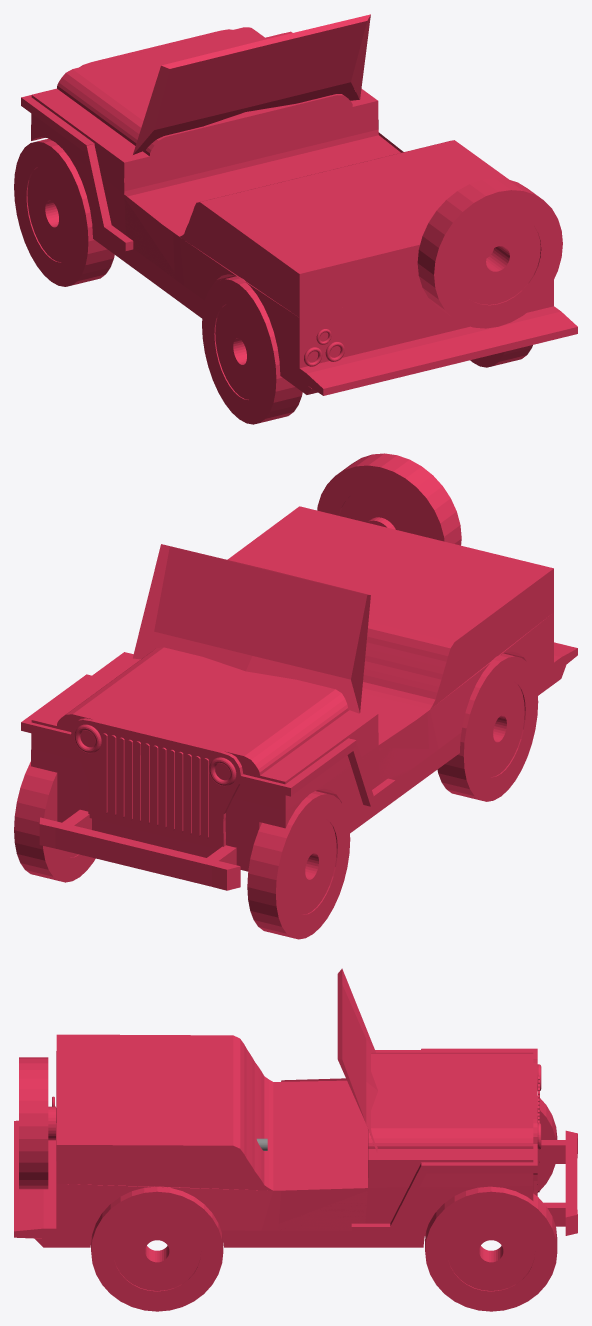
File: jeep_grande3.glb
3 views of the same model, one above another, from view 1: azimuth 30°, elevation 25°; view 2: azimuth 150°, elevation 25°; view 3: azimuth 270°, elevation 25° (orthographic). The views are drawn at different scales.
Visible parts, largest first — view 1: Cube; view 2: Cube; view 3: Cube.
Boxes of the visible parts, left/top/right/bottom form: Cube: left=14, top=14, right=577, bottom=424; Cube: left=14, top=453, right=577, bottom=939; Cube: left=14, top=968, right=577, bottom=1311.
Size of the model in its own units: 6.42 by 6.17 by 13.07.
